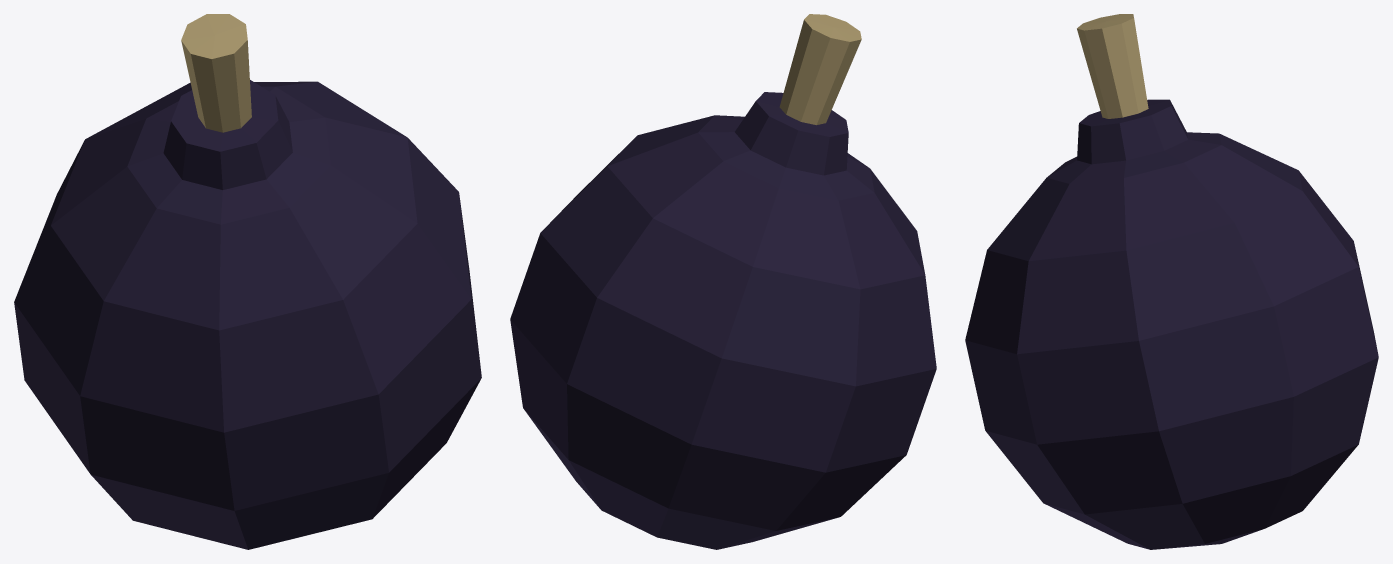
Rendered from Bomb.fbx.
The picture shows the model from 3 angles, left to right: view 1: azimuth 30°, elevation 25°; view 2: azimuth 150°, elevation 25°; view 3: azimuth 270°, elevation 25°; orthographic projection. The views are drawn at different scales.
Visible parts, largest first — view 1: bomb:pSphere1; view 2: bomb:pSphere1; view 3: bomb:pSphere1.
Part boxes in pixels (bbox=[...]): bomb:pSphere1: bbox=[14, 14, 481, 549]; bomb:pSphere1: bbox=[510, 14, 936, 549]; bomb:pSphere1: bbox=[965, 14, 1378, 549].
Bounding box in the file's own units: 5.54 × 7.12 × 5.51.
